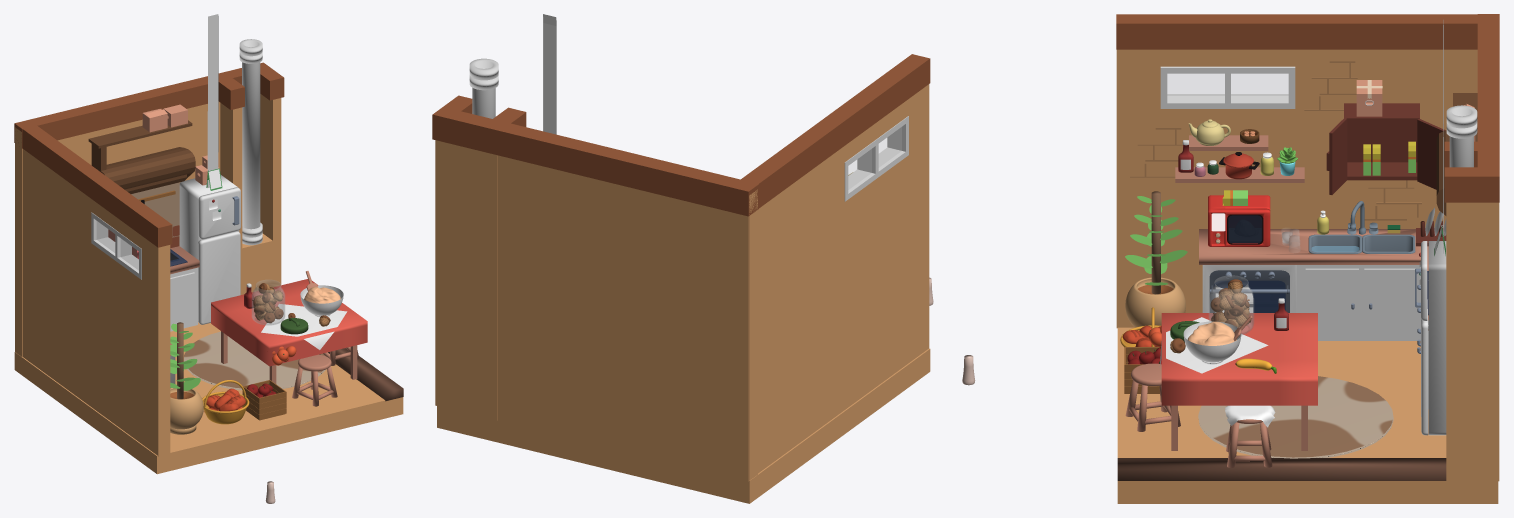
Rendered from kitchen.glb.
3 views of the same model, side by side, from view 1: azimuth 30°, elevation 25°; view 2: azimuth 150°, elevation 25°; view 3: azimuth 270°, elevation 25° (orthographic). The views are drawn at different scales.
Parts seen in each view (by area): view 1: 平面.002, 平面.010, 平面.001, 平面.004, 立方体.024, 平面.003, 平面.005, 柱体.031, 柱体, 立方体.037, 立方体.013, 球体.001 (+20 smaller); view 2: 平面.004, 平面.002, 平面.001, 平面.010, 平面.005, 平面.003, 立方体.103, 立方体.048, 柱体.031, 平面.014, 平面.026, 平面.025; view 3: 平面.002, 平面.010, 平面.001, 平面.003, 立方体.024, 柱体, 平面.039, 立方体.009, 立方体.017, 球体.001, 立方体.007, 立方体.103 (+32 smaller).
Part boxes in pixels (x1=…): 平面.002: x1=22, y1=149, x2=170, y2=456; 平面.010: x1=14, y1=322, x2=403, y2=474; 平面.001: x1=220, y1=94, x2=281, y2=294; 平面.004: x1=15, y1=101, x2=220, y2=356; 立方体.024: x1=211, y1=279, x2=367, y2=366; 平面.003: x1=15, y1=120, x2=172, y2=247; 平面.005: x1=14, y1=63, x2=270, y2=148; 柱体.031: x1=239, y1=39, x2=262, y2=245; 柱体: x1=184, y1=331, x2=325, y2=390; 立方体.037: x1=198, y1=231, x2=240, y2=324; 立方体.013: x1=98, y1=147, x2=195, y2=193; 球体.001: x1=170, y1=322, x2=203, y2=434; 平面.004: x1=497, y1=155, x2=757, y2=481; 平面.002: x1=732, y1=84, x2=929, y2=481; 平面.001: x1=435, y1=140, x2=497, y2=420; 平面.010: x1=437, y1=348, x2=930, y2=503; 平面.005: x1=433, y1=107, x2=758, y2=216; 平面.003: x1=732, y1=54, x2=930, y2=208; 立方体.103: x1=844, y1=116, x2=908, y2=201; 立方体.048: x1=543, y1=14, x2=556, y2=134; 柱体.031: x1=469, y1=58, x2=498, y2=118; 平面.014: x1=848, y1=149, x2=871, y2=189; 平面.026: x1=482, y1=107, x2=526, y2=130; 平面.025: x1=879, y1=127, x2=901, y2=166; 平面.002: x1=1116, y1=49, x2=1477, y2=328; 平面.010: x1=1117, y1=327, x2=1498, y2=503; 平面.001: x1=1446, y1=202, x2=1499, y2=481; 平面.003: x1=1116, y1=14, x2=1498, y2=49; 立方体.024: x1=1161, y1=313, x2=1317, y2=405; 柱体: x1=1198, y1=376, x2=1393, y2=458; 平面.039: x1=1117, y1=458, x2=1446, y2=480; 立方体.009: x1=1344, y1=103, x2=1419, y2=180; 立方体.017: x1=1199, y1=229, x2=1428, y2=330; 球体.001: x1=1125, y1=191, x2=1187, y2=327; 立方体.007: x1=1428, y1=241, x2=1446, y2=435; 立方体.103: x1=1160, y1=66, x2=1295, y2=108.
Size of what is drawn, in the model's own units: 6.57 by 8.26 by 9.17.
Materials: 96 (1 with a texture image).
